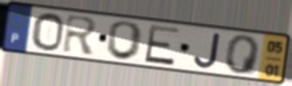E: (142, 24, 182, 68)
J: (192, 31, 223, 70)
O: (104, 20, 146, 62), (30, 12, 65, 53)
Q: (224, 34, 263, 77)
R: (61, 13, 99, 57)
